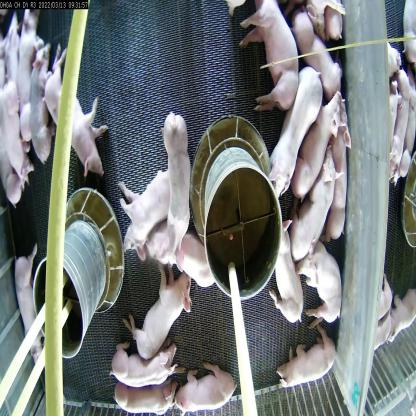Pig: (41, 44, 108, 179), (268, 62, 326, 206), (11, 235, 65, 384), (234, 0, 297, 127), (118, 270, 198, 357), (328, 91, 370, 249), (116, 168, 188, 260), (293, 131, 337, 265), (160, 115, 198, 268), (293, 218, 342, 327), (265, 210, 306, 336), (144, 218, 217, 288), (13, 4, 46, 143), (104, 330, 184, 386), (104, 359, 183, 415), (278, 328, 339, 400), (168, 356, 238, 416), (298, 96, 336, 206), (0, 79, 34, 197), (25, 38, 51, 162)
